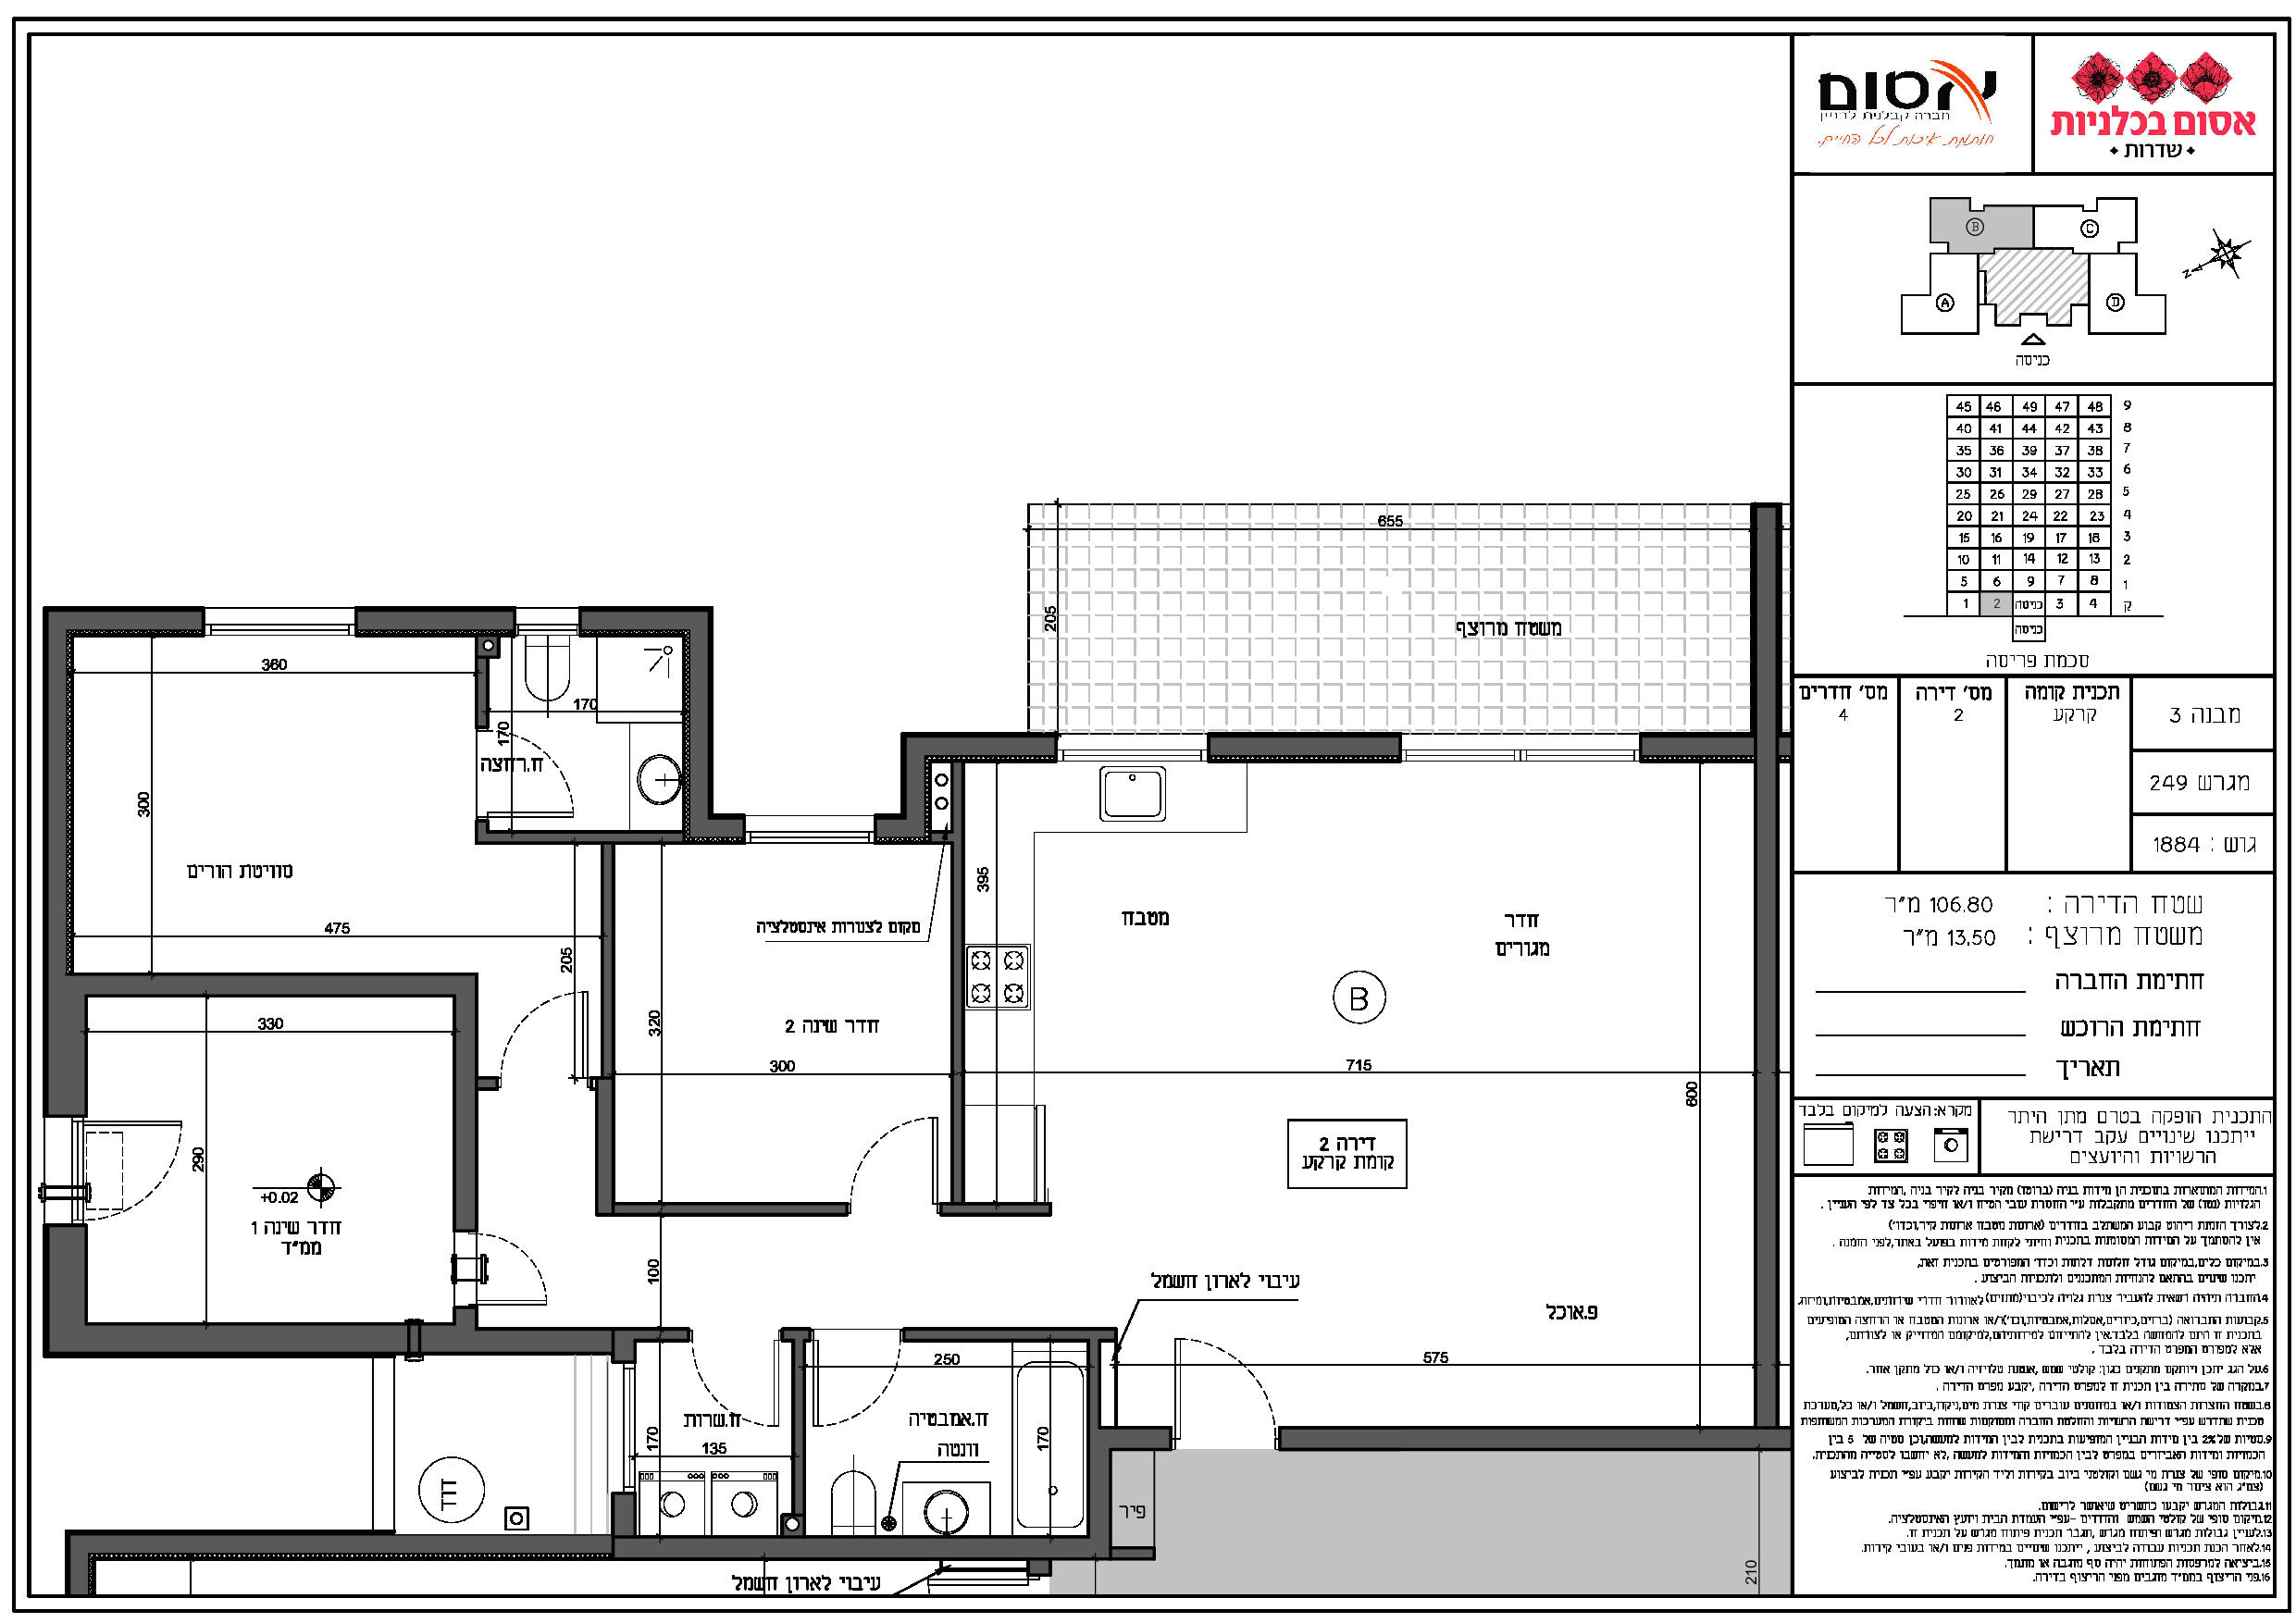door: (1158, 1324, 1289, 1414), (100, 1103, 188, 1235), (497, 718, 592, 820), (499, 982, 596, 1064), (685, 1356, 785, 1435), (847, 1107, 945, 1184), (488, 1224, 553, 1316), (810, 1381, 901, 1432)
wall: (1758, 518, 1774, 1382), (49, 613, 67, 1110), (618, 1542, 1098, 1558), (56, 1328, 390, 1349), (1284, 1432, 1785, 1446), (60, 978, 464, 992), (458, 982, 473, 1212), (427, 1331, 596, 1349), (694, 615, 706, 833), (365, 613, 508, 629), (585, 613, 701, 627), (921, 739, 1051, 752), (1093, 1435, 1108, 1535), (81, 613, 191, 627)
window: (1398, 729, 1643, 771), (202, 595, 357, 650), (1056, 727, 1212, 768), (745, 808, 877, 850), (608, 1363, 636, 1495), (516, 599, 580, 643)
